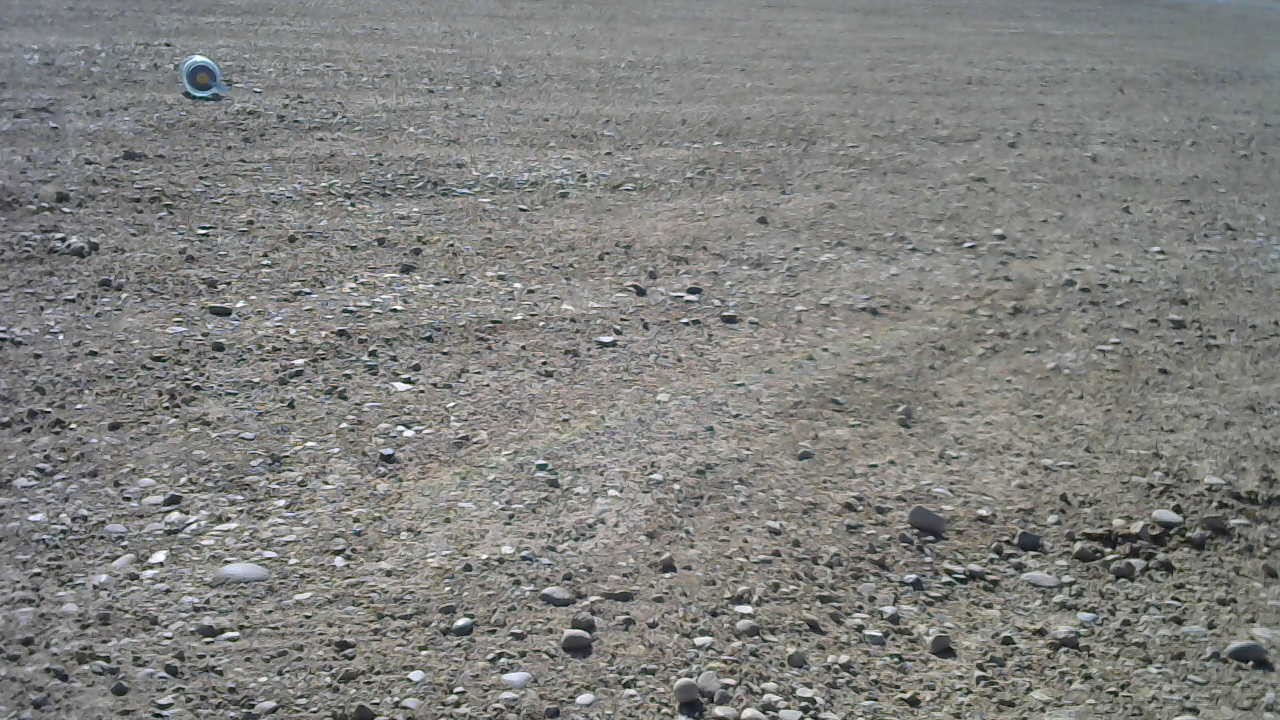bottle: (174, 50, 233, 101)
